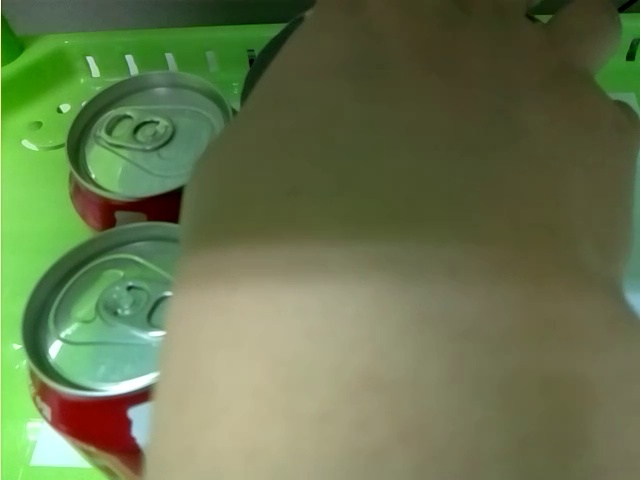cocacola: (17, 224, 174, 480), (62, 76, 237, 221)
hand: (167, 1, 640, 480)
